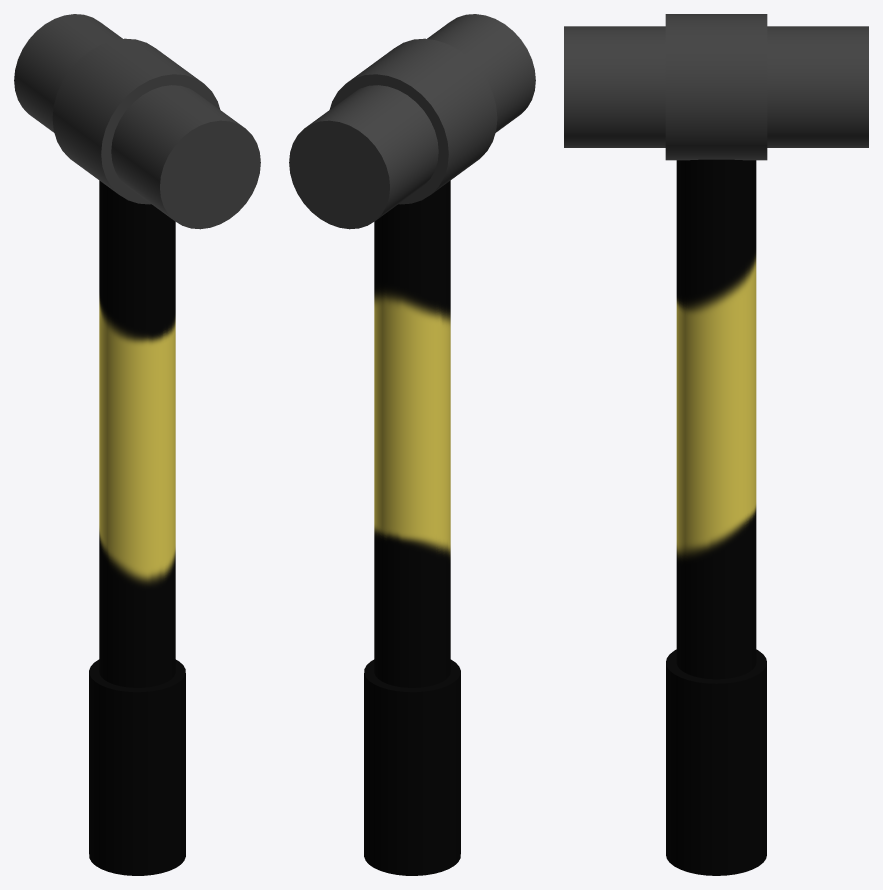
The model's file is MO_Sledgehammer.fbx.
The picture shows the model from 3 angles, left to right: view 1: azimuth 30°, elevation 25°; view 2: azimuth 150°, elevation 25°; view 3: azimuth 270°, elevation 25°; orthographic projection. The views are drawn at different scales.
Visible parts, largest first — view 1: Handle, Hammer; view 2: Handle, Hammer; view 3: Handle, Hammer.
Part boxes in pixels (left/top/right/bottom): Handle: left=89, top=180, right=185, bottom=875; Hammer: left=14, top=14, right=260, bottom=229; Handle: left=364, top=180, right=460, bottom=875; Hammer: left=289, top=14, right=535, bottom=229; Handle: left=666, top=159, right=766, bottom=875; Hammer: left=564, top=14, right=868, bottom=160.
Size of the model in its own units: 15.41 by 96.83 by 32.08.
